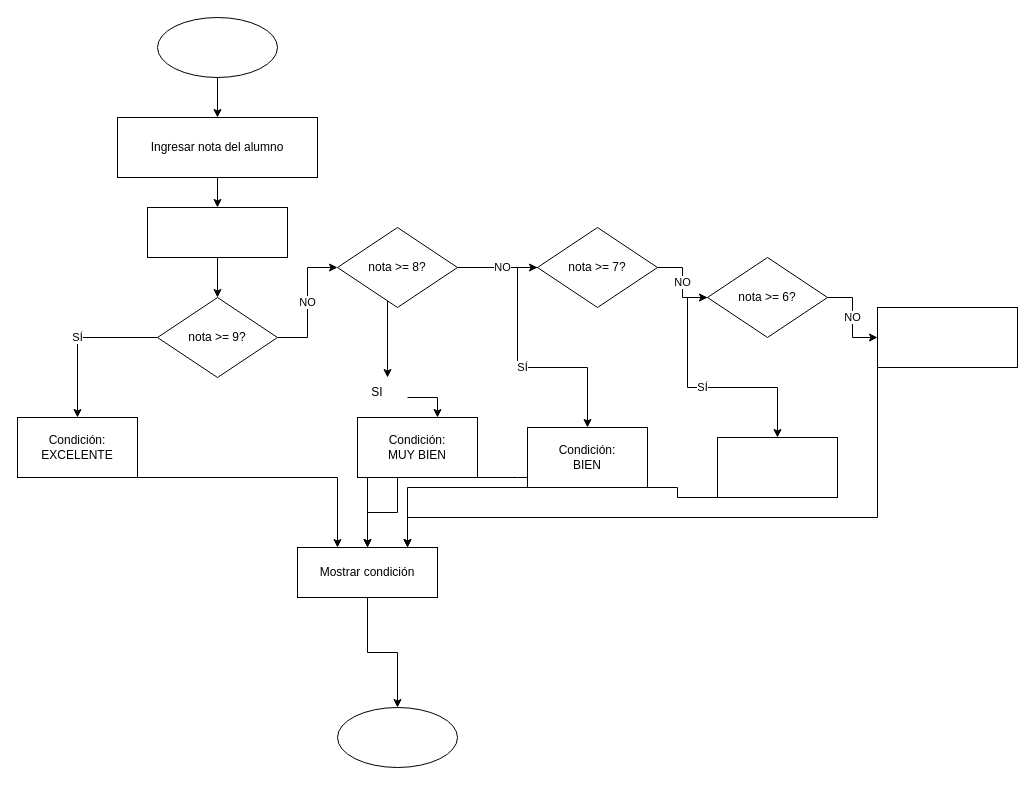
Some shapes in this 1035 by 785 pixel diagram are drawn without their labels. Here are the shapes that lost their labels. From the top down, the box of each, then its label:
(156, 16, 278, 78): INICIO
(146, 206, 288, 258): nota = input()
(876, 306, 1018, 368): Condición: INSUFICIENTE
(716, 436, 838, 498): Condición: REGULAR
(336, 706, 458, 768): FIN
